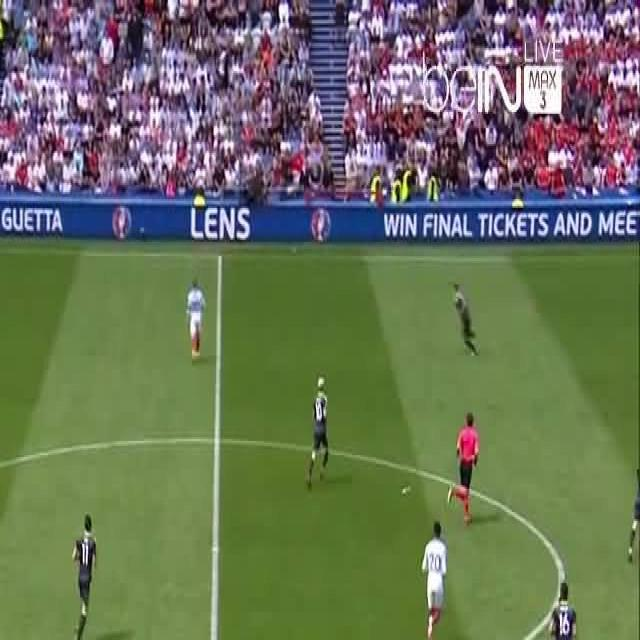player-white: (447, 413, 480, 527), (70, 512, 96, 640), (420, 521, 446, 640), (306, 377, 328, 487), (454, 284, 481, 360), (186, 278, 206, 362), (548, 581, 576, 640)
